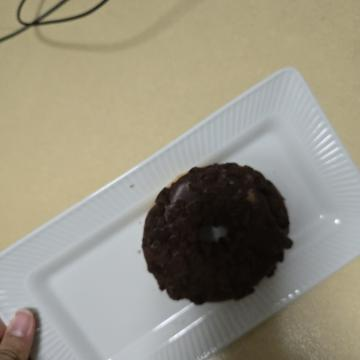doughnut: (152, 58, 318, 234)
